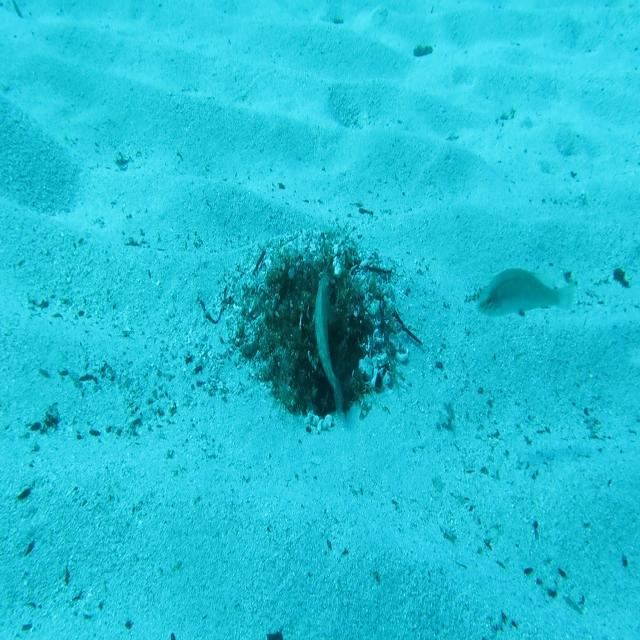FAN: (310, 270, 347, 419)
core_nest: (290, 273, 329, 298)
female: (474, 267, 576, 326)
nest: (218, 210, 416, 442)
vegetation: (612, 267, 631, 291), (413, 42, 434, 62), (264, 625, 284, 640)
